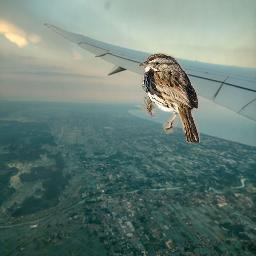Sparrow: (138, 51, 201, 143)
